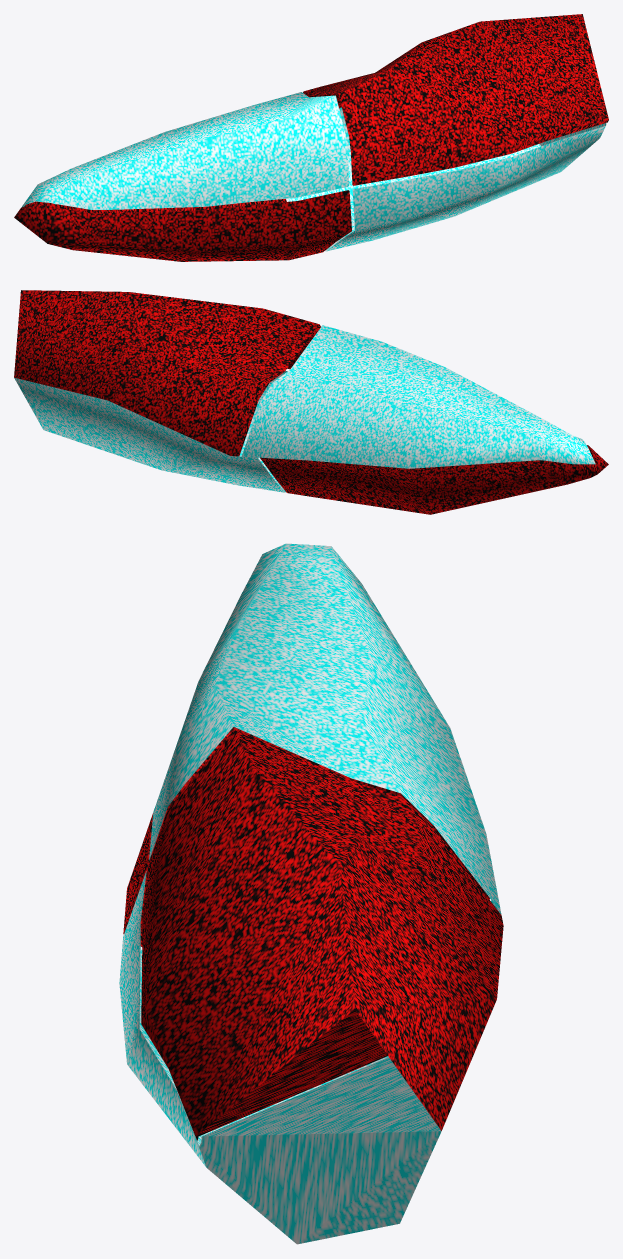
File: SM_Crystal_01_GDH.fbx
3 views of the same model, one above another, from view 1: azimuth 30°, elevation 25°; view 2: azimuth 150°, elevation 25°; view 3: azimuth 270°, elevation 25° (orthographic). The views are drawn at different scales.
Visible parts, largest first — view 1: SM_Crystal_01_GDH; view 2: SM_Crystal_01_GDH; view 3: SM_Crystal_01_GDH.
Part boxes in pixels (left/top/right/bottom): SM_Crystal_01_GDH: left=14, top=14, right=608, bottom=261; SM_Crystal_01_GDH: left=14, top=290, right=608, bottom=514; SM_Crystal_01_GDH: left=119, top=543, right=503, bottom=1244.
Size of the model in its own units: 36.52 by 10.13 by 10.63.
